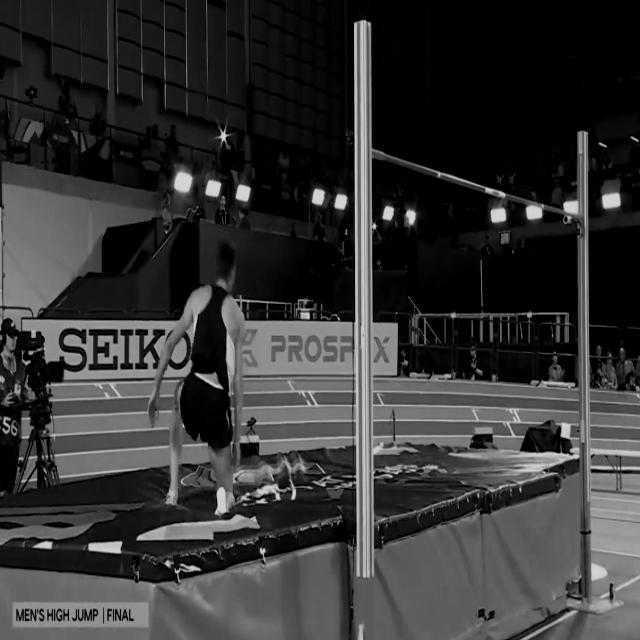land: (149, 247, 245, 512)
